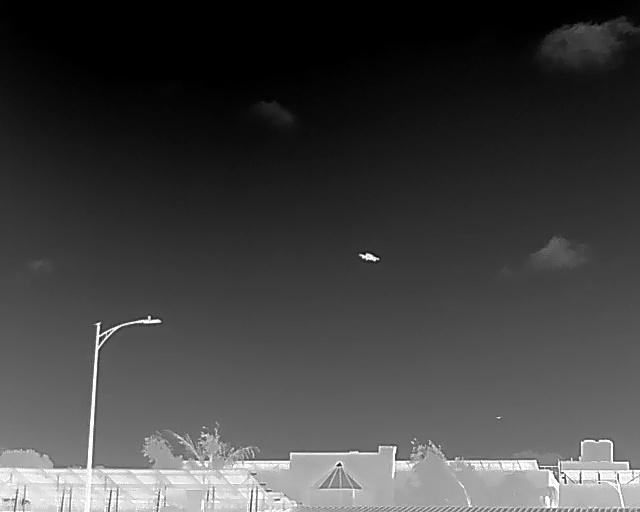fpv-drone: (358, 252, 379, 261)
